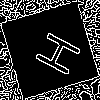H: (25, 25, 83, 79)
